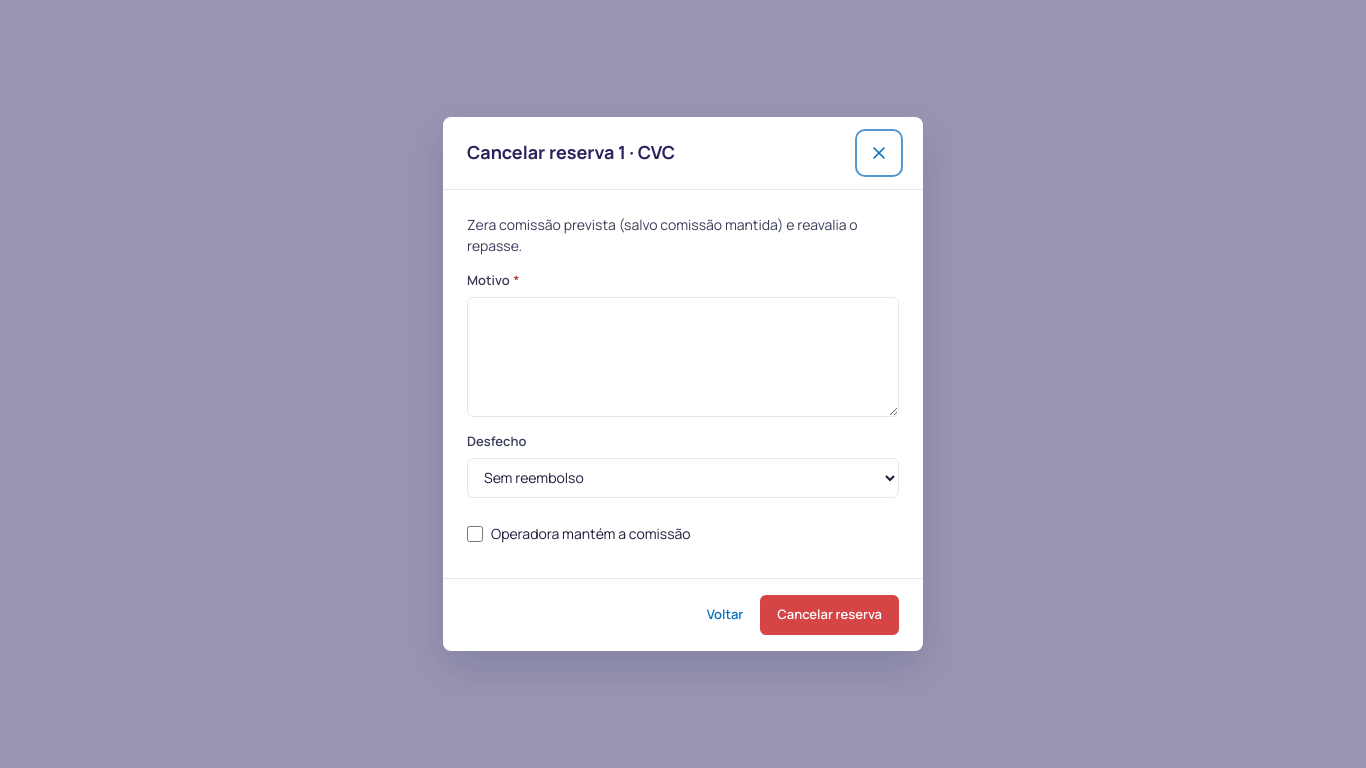
Test: 422 valor_acima_da_venda com crédito aparece sob Valor do crédito
The width and height of the screenshot is (1366, 768).
Type "Cliente desistiu" into the text box labelled "Motivo *" at coordinates (683, 357), box 467,297 -> 899,417
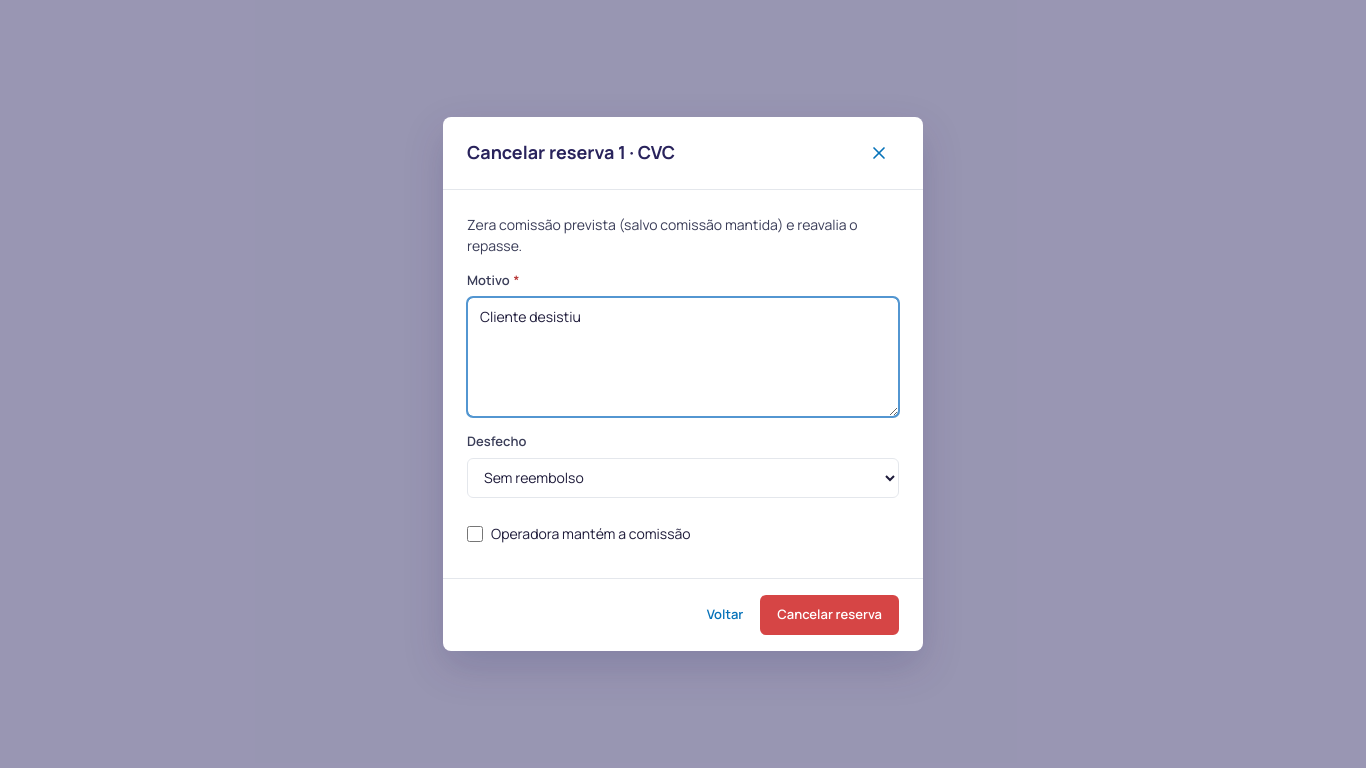
Select "Crédito" in the dropdown labelled "Desfecho" at coordinates (683, 478), box 467,458 -> 899,498
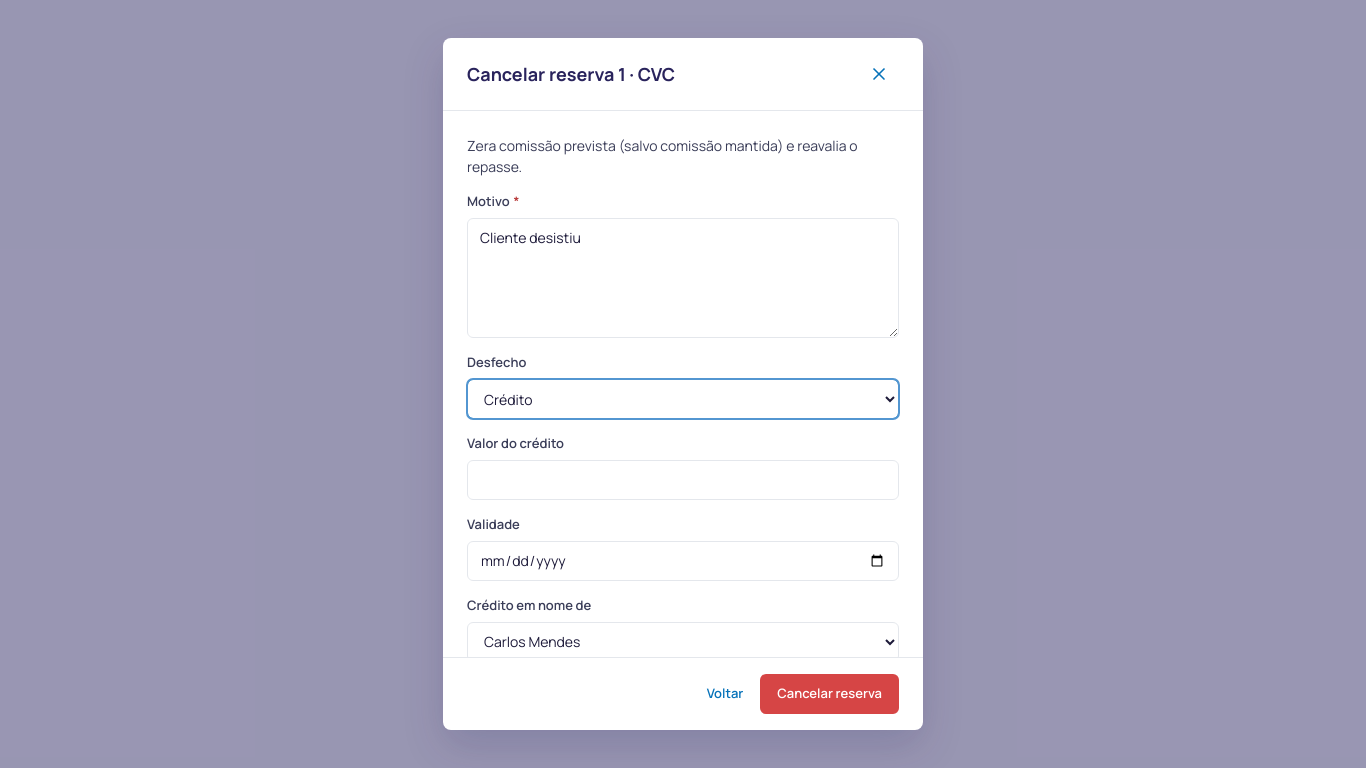
Type "100" into the field labelled "Valor do crédito" at coordinates (683, 480), box 467,460 -> 899,500
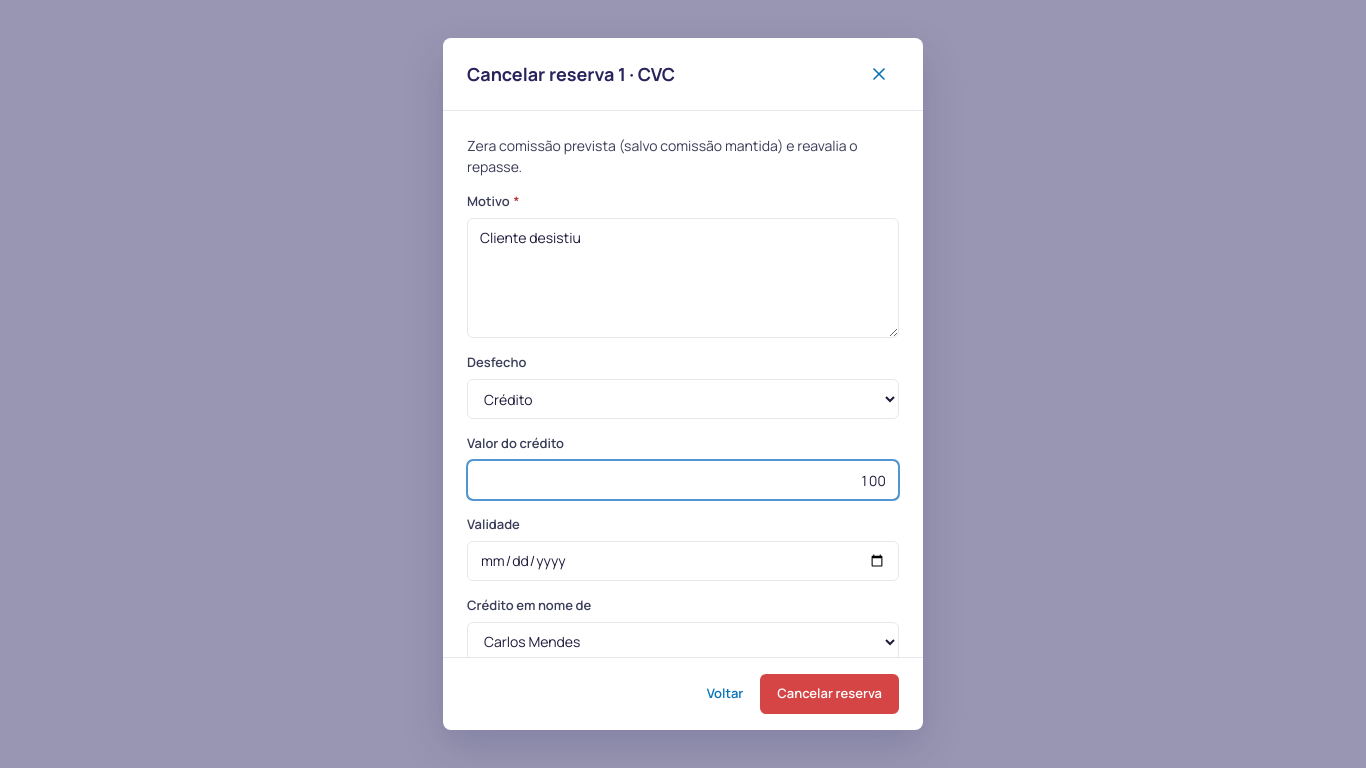
Click the button "Cancelar reserva" at coordinates (830, 694), box 760,674 -> 899,714
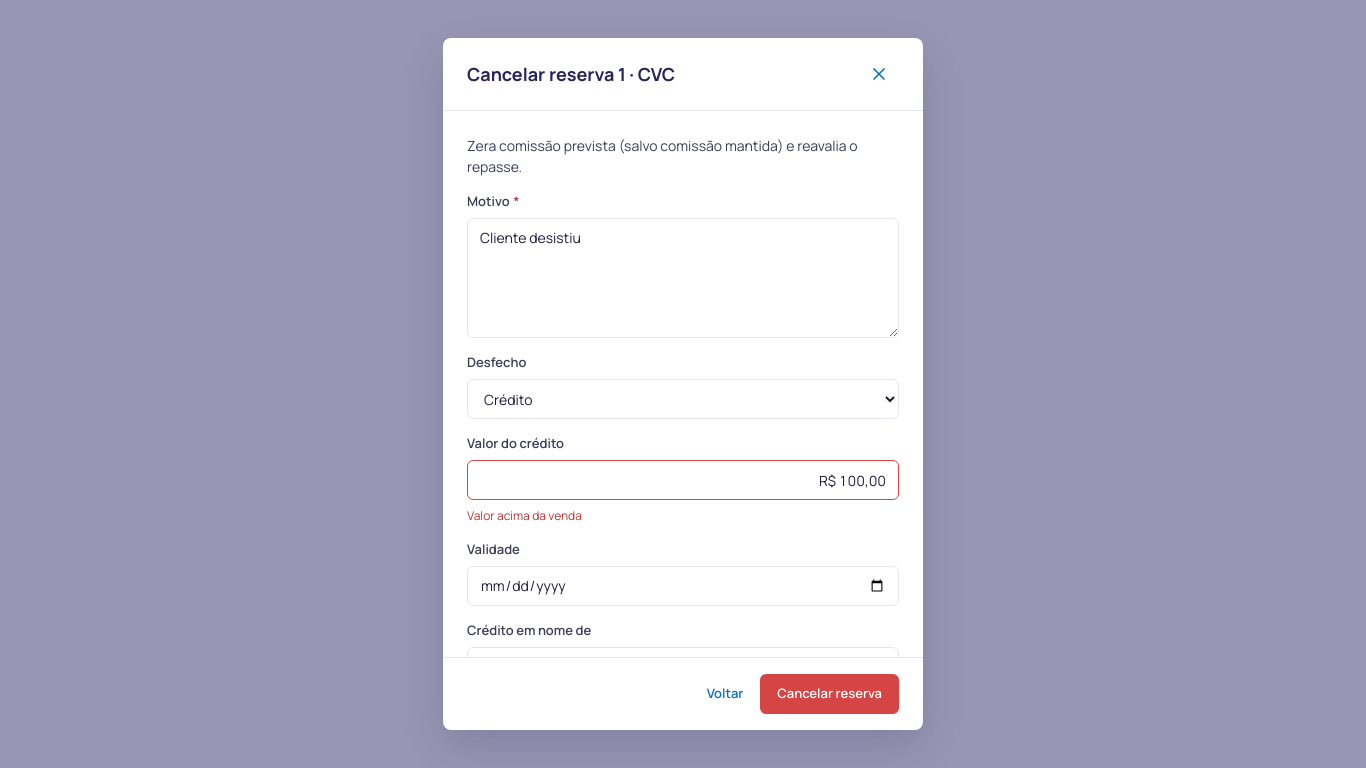
Expected: the message reads "Valor acima da venda", 467,507 -> 582,524
